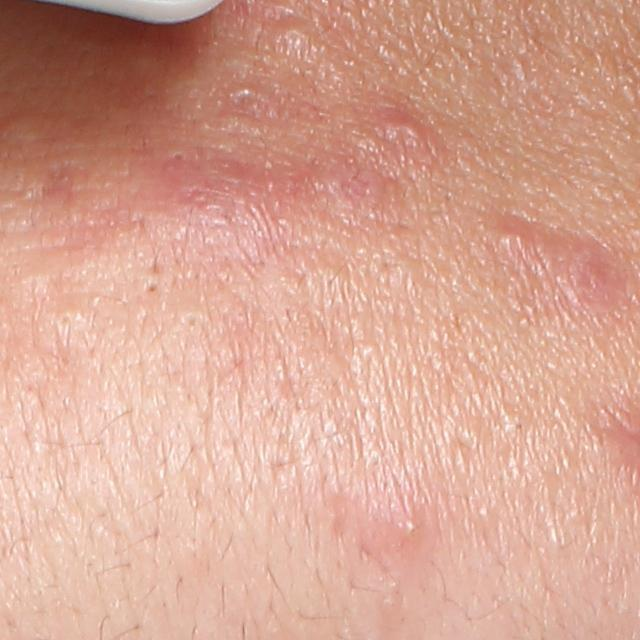comedo: (144, 277, 166, 296), (169, 148, 187, 163)
papule: (559, 241, 622, 304), (320, 160, 385, 220), (378, 104, 435, 150), (493, 219, 550, 261)
